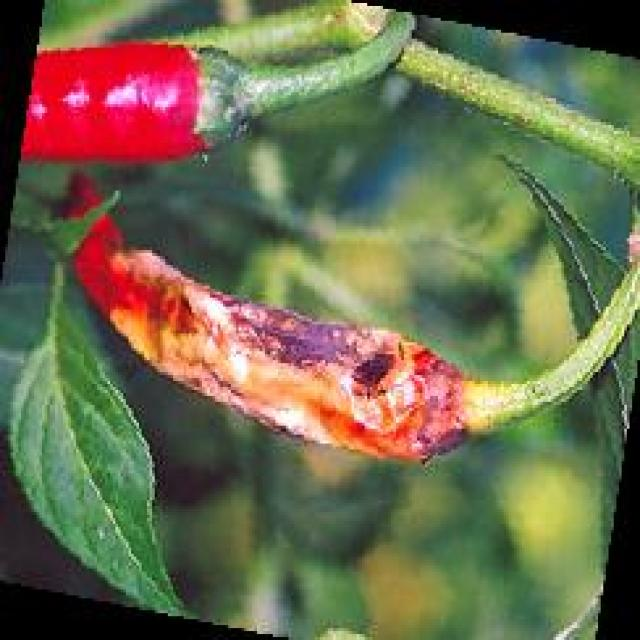Moko: (80, 196, 481, 481)
